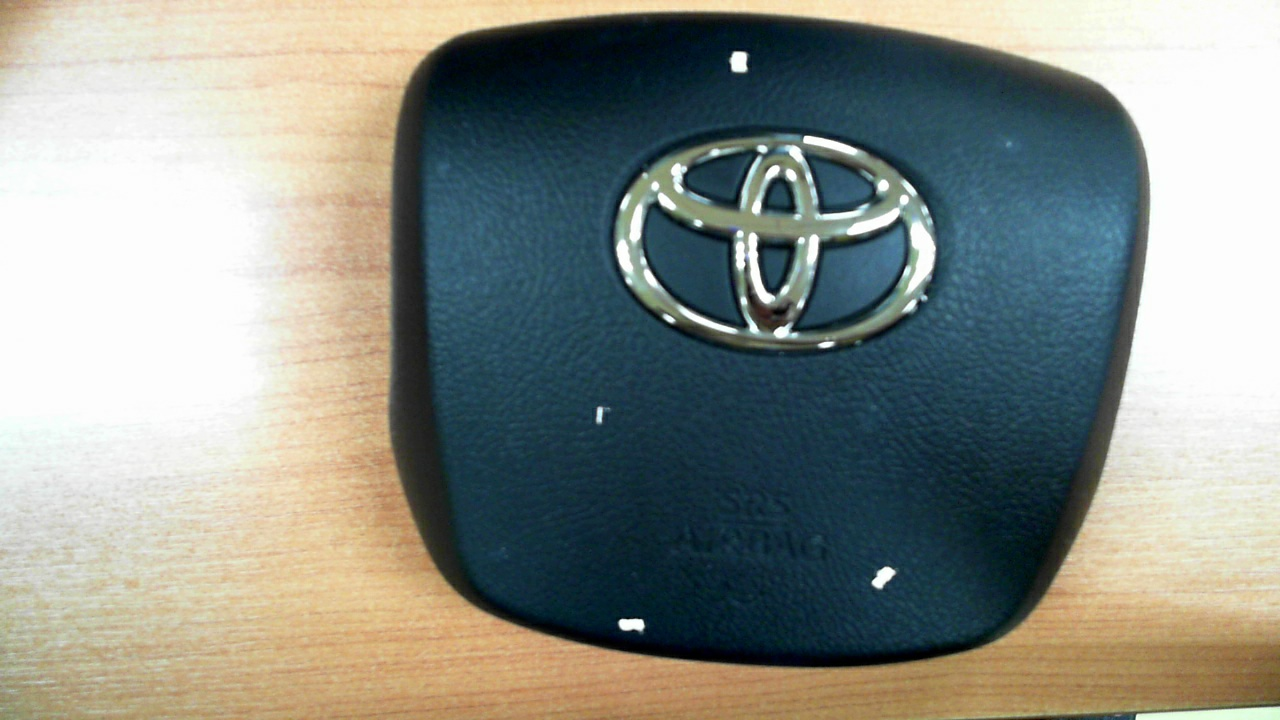Airbag: (388, 12, 1151, 667)
Mark: (871, 566, 896, 589), (730, 51, 749, 73), (618, 618, 645, 632), (596, 406, 609, 424), (1006, 141, 1013, 147)
